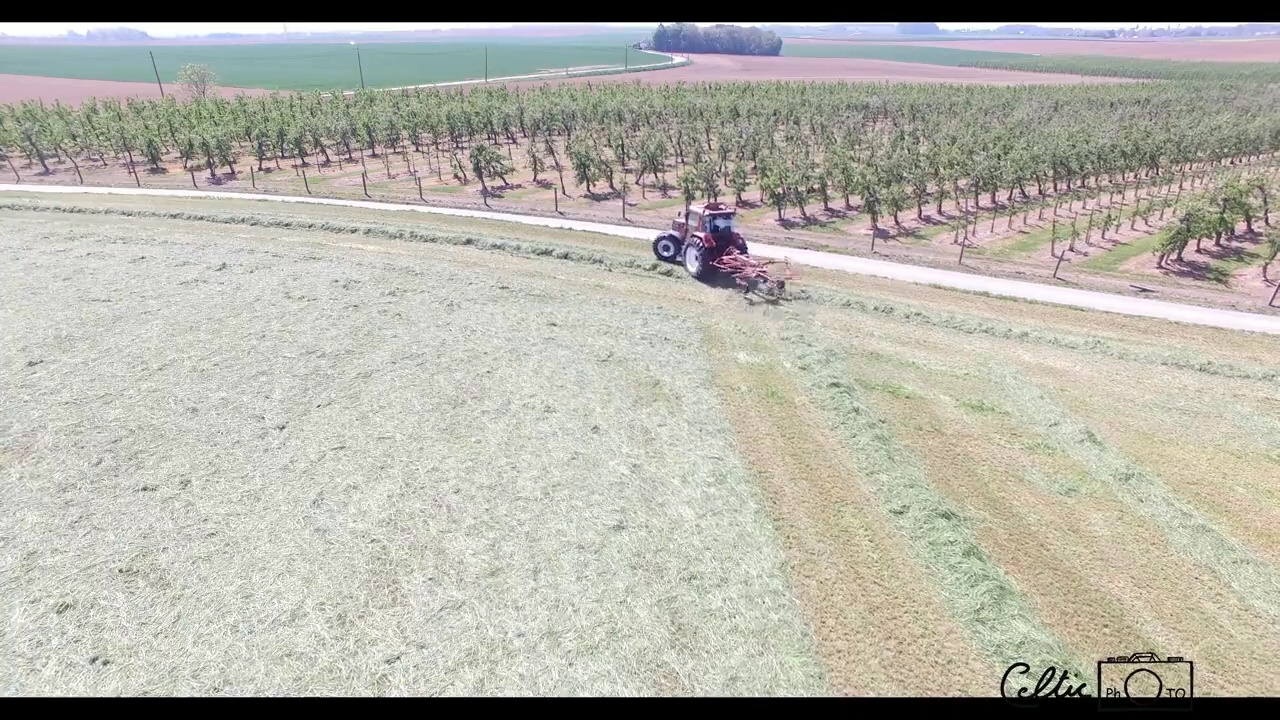traktor: (648, 198, 753, 277)
